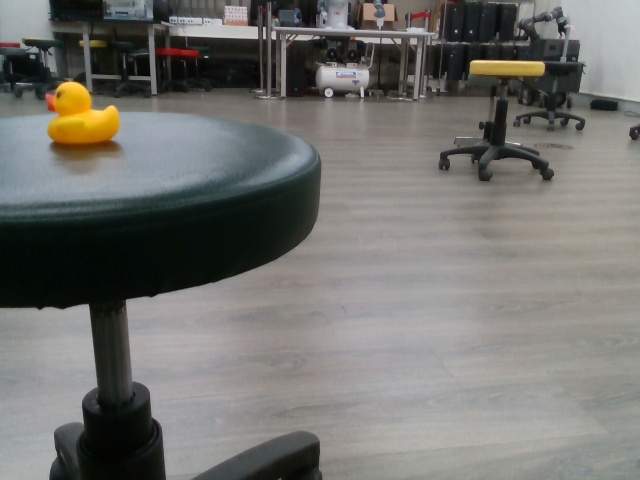duck: (42, 80, 122, 146)
